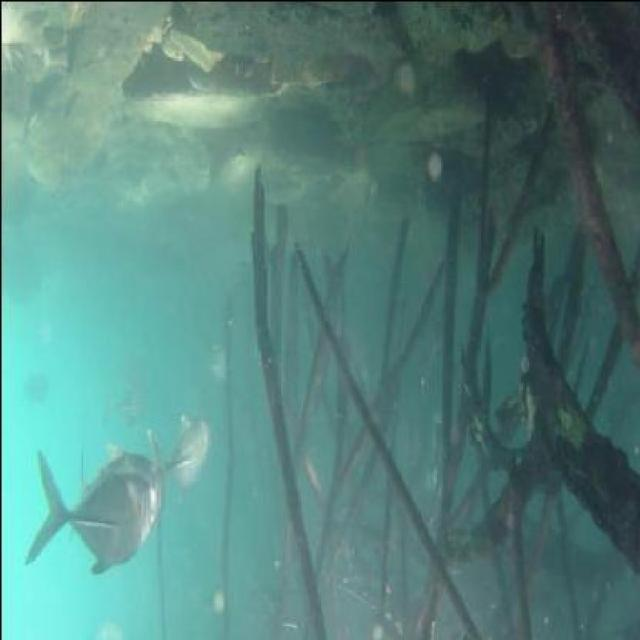Caranx_sexfasciatus_juvenile: (21, 445, 148, 577), (69, 414, 168, 548), (146, 397, 209, 514), (92, 343, 154, 395), (90, 382, 144, 431)
